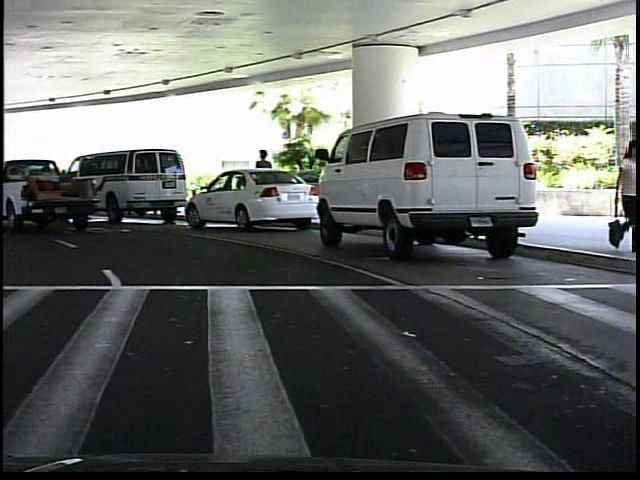person: (607, 139, 640, 253), (252, 147, 279, 218)
